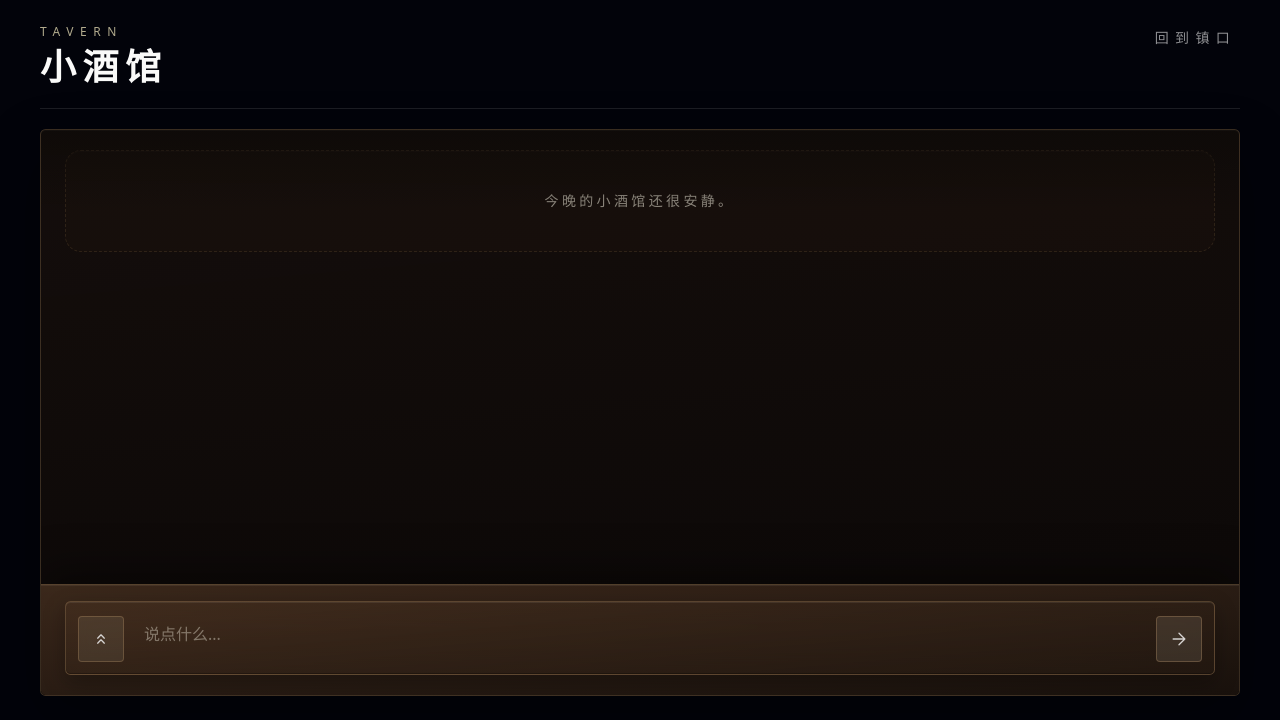
Test: TavernClient › shows a fading toast-style notice for action errors
Type "测试" into the text box with placeholder "说点什么..." at point(640, 638), box [136,614,1144,662]
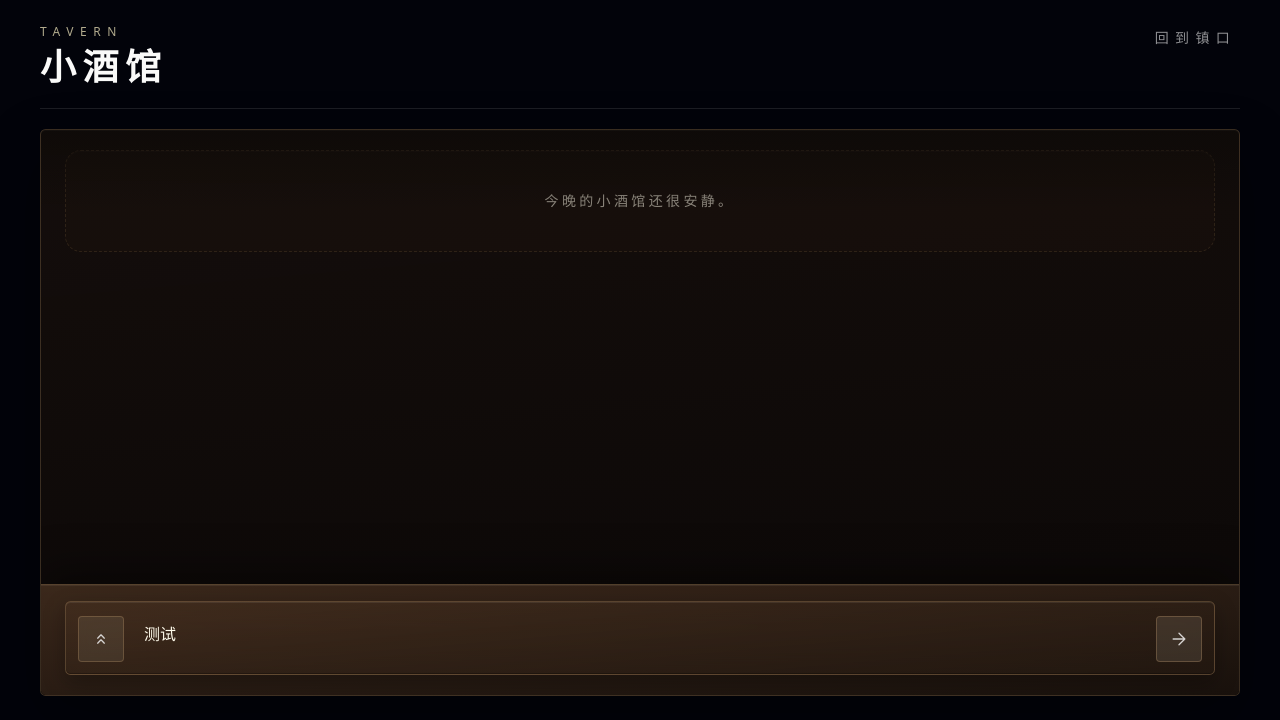
Click the button named "发送" at point(1179, 639), box [1156,616,1202,662]
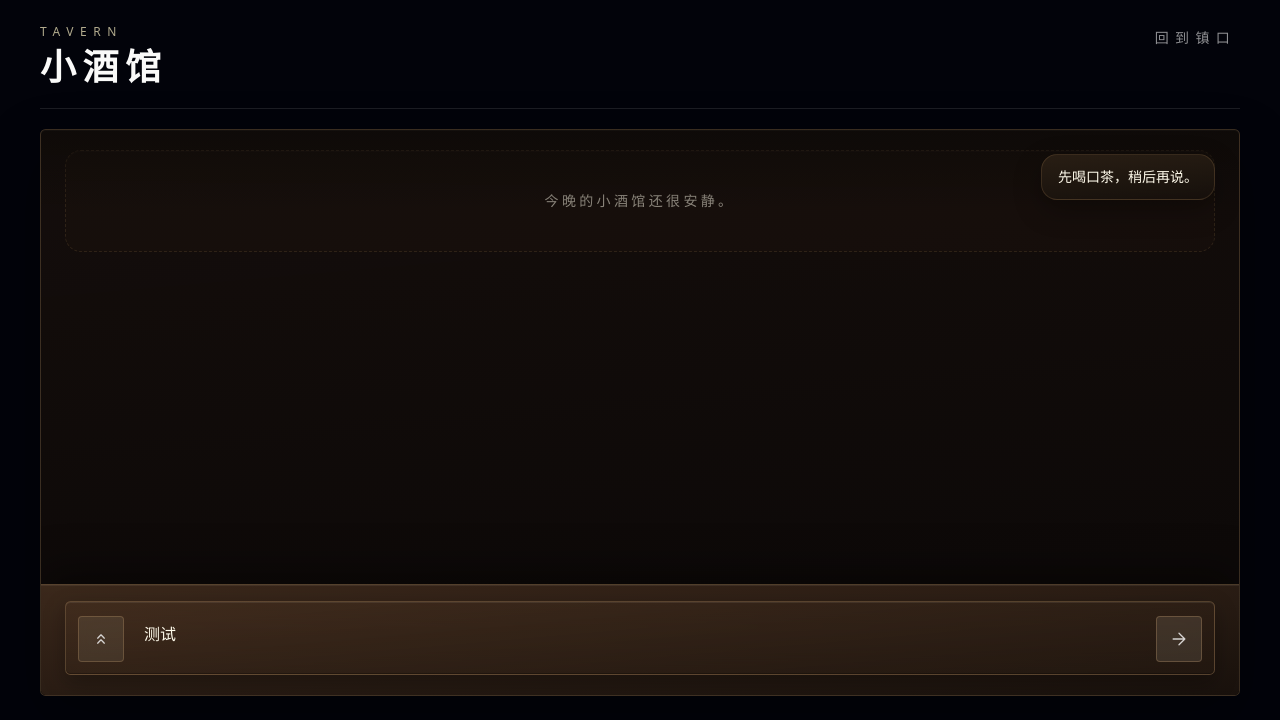
Check: the text "先喝口茶，稍后再说。" is shown, box [1041,154,1215,200]
